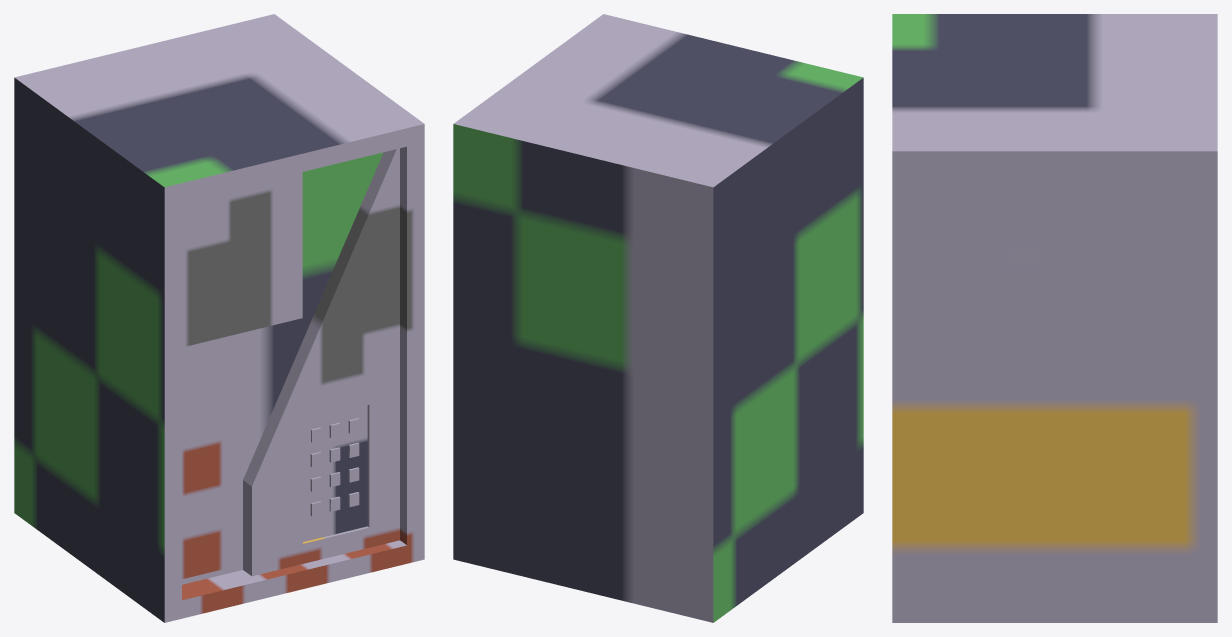
Rendered from Machine1.FBX.
The picture shows the model from 3 angles, left to right: view 1: azimuth 30°, elevation 25°; view 2: azimuth 150°, elevation 25°; view 3: azimuth 270°, elevation 25°; orthographic projection. The views are drawn at different scales.
Parts seen in each view (by area): view 1: Box001; view 2: Box001; view 3: Box001.
Boxes of the visible parts, x1=… form: Box001: x1=14, y1=14, x2=424, y2=622; Box001: x1=453, y1=14, x2=863, y2=622; Box001: x1=892, y1=14, x2=1217, y2=622.
Bounding box in the file's own units: 6.35 × 10.16 × 6.35.
